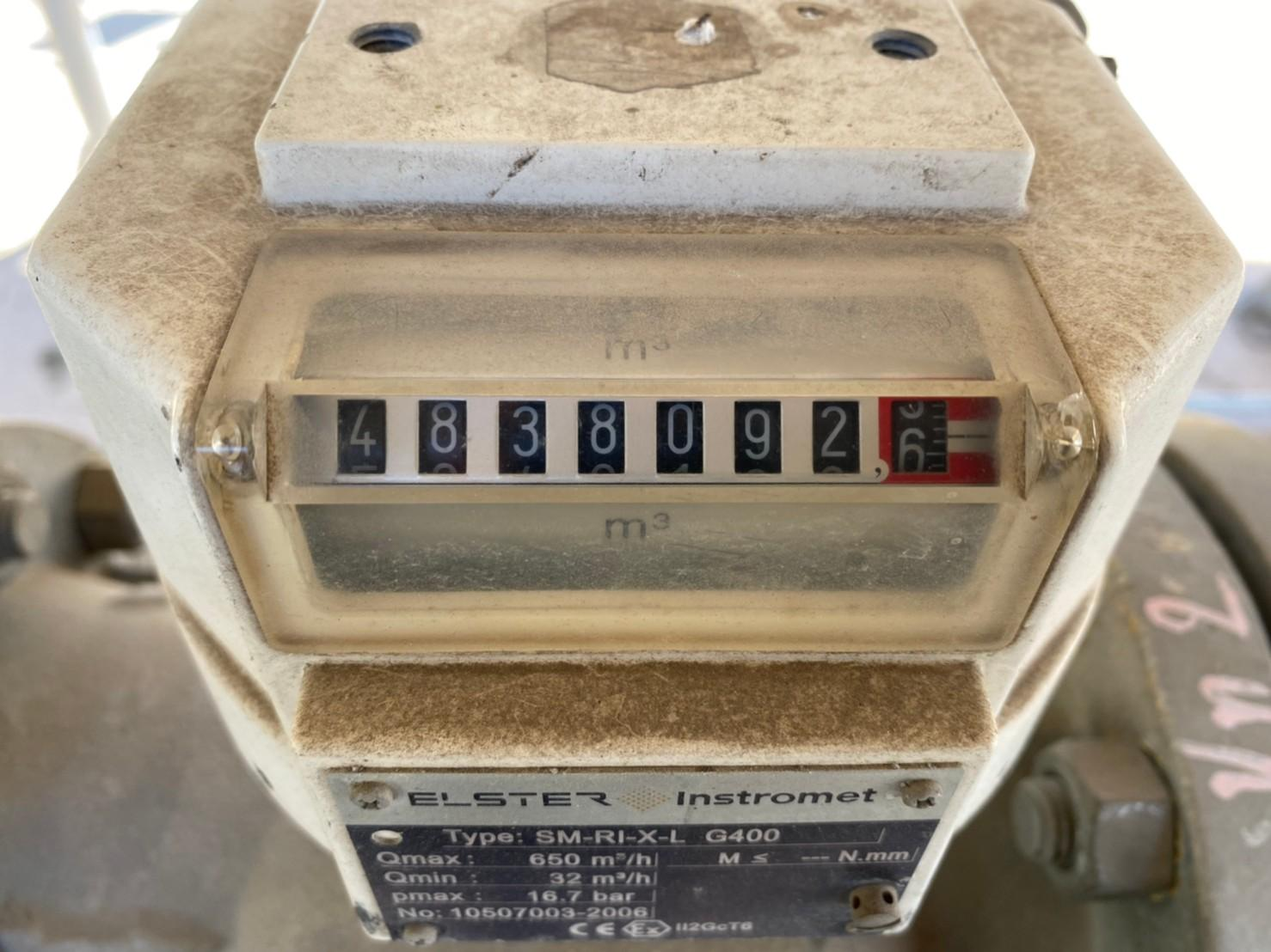analog_dial: (292, 395, 1001, 486)
